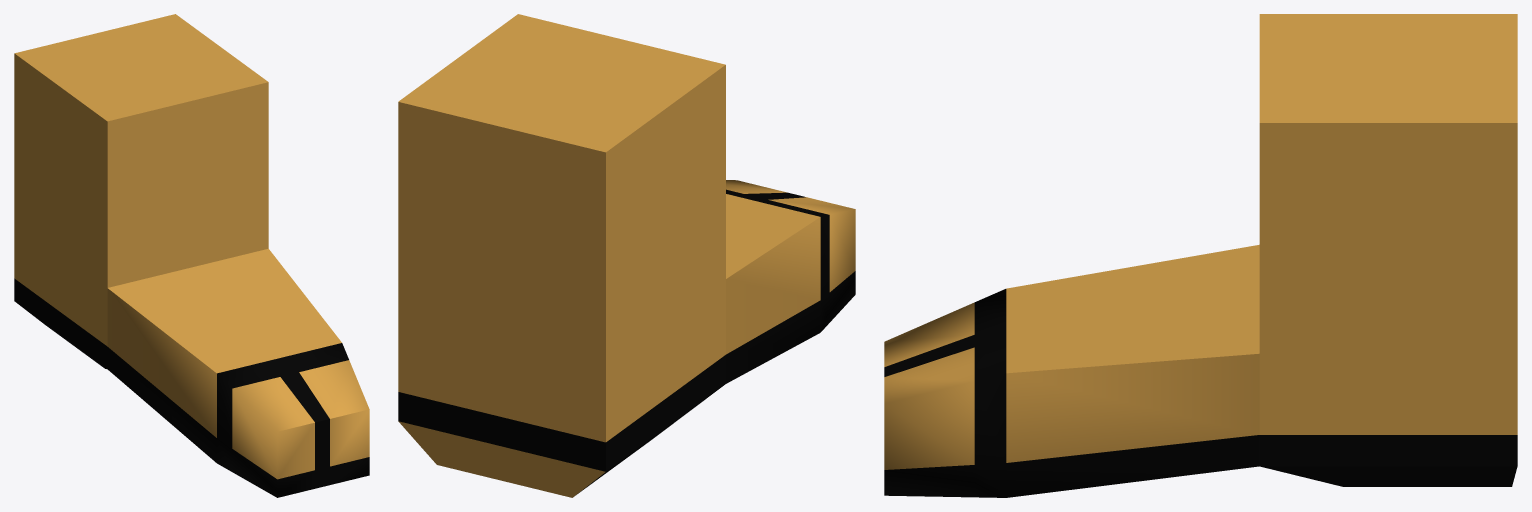
The picture shows the model from 3 angles, left to right: view 1: azimuth 30°, elevation 25°; view 2: azimuth 150°, elevation 25°; view 3: azimuth 270°, elevation 25°; orthographic projection. The views are drawn at different scales.
Parts seen in each view (by area): view 1: Cube; view 2: Cube; view 3: Cube.
Boxes of the visible parts, x1,y1,x2,y2 form: Cube: (14, 14, 369, 497); Cube: (398, 14, 855, 497); Cube: (884, 14, 1517, 497).
Bounding box in the file's own units: 59.82 × 101 × 147.
